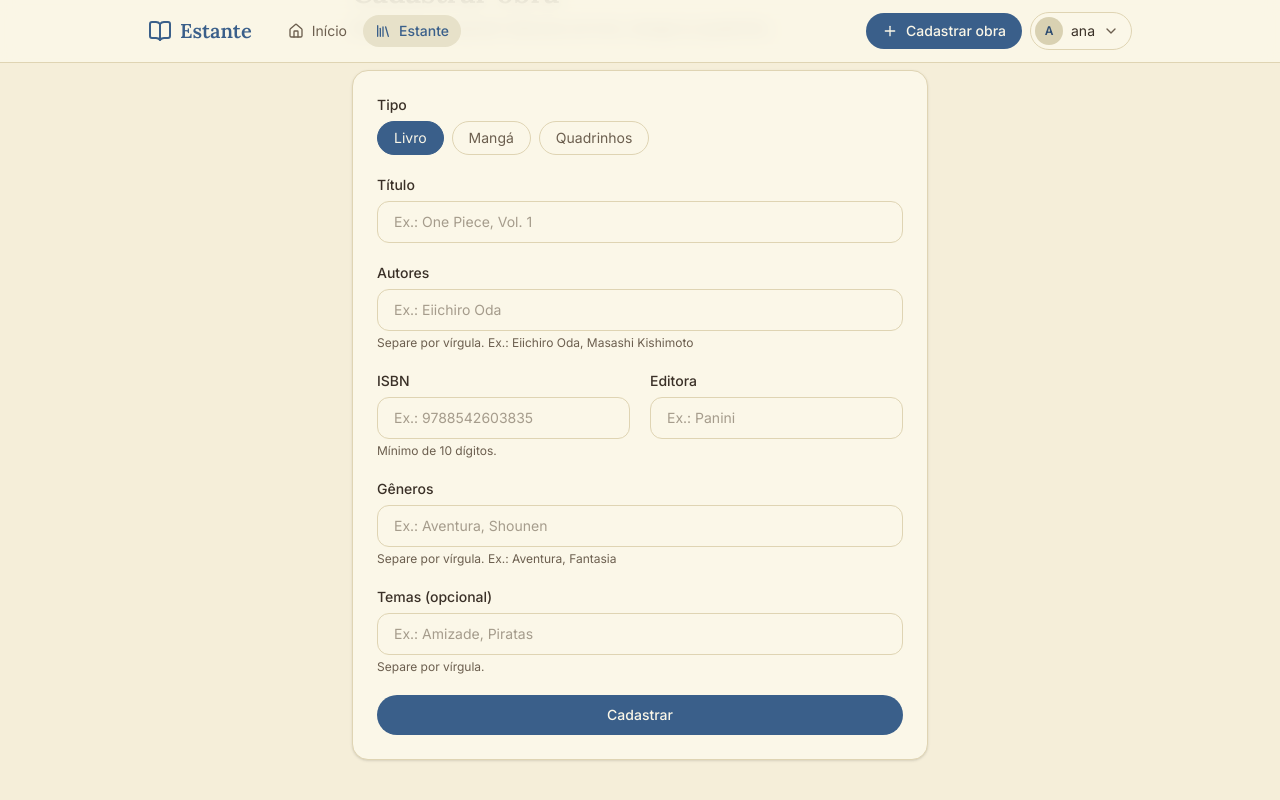
Test: validação do cadastro de obra › exige os campos obrigatórios
(page scrolled)
Click the button "Cadastrar" at (640, 715), box [377,695,903,735]
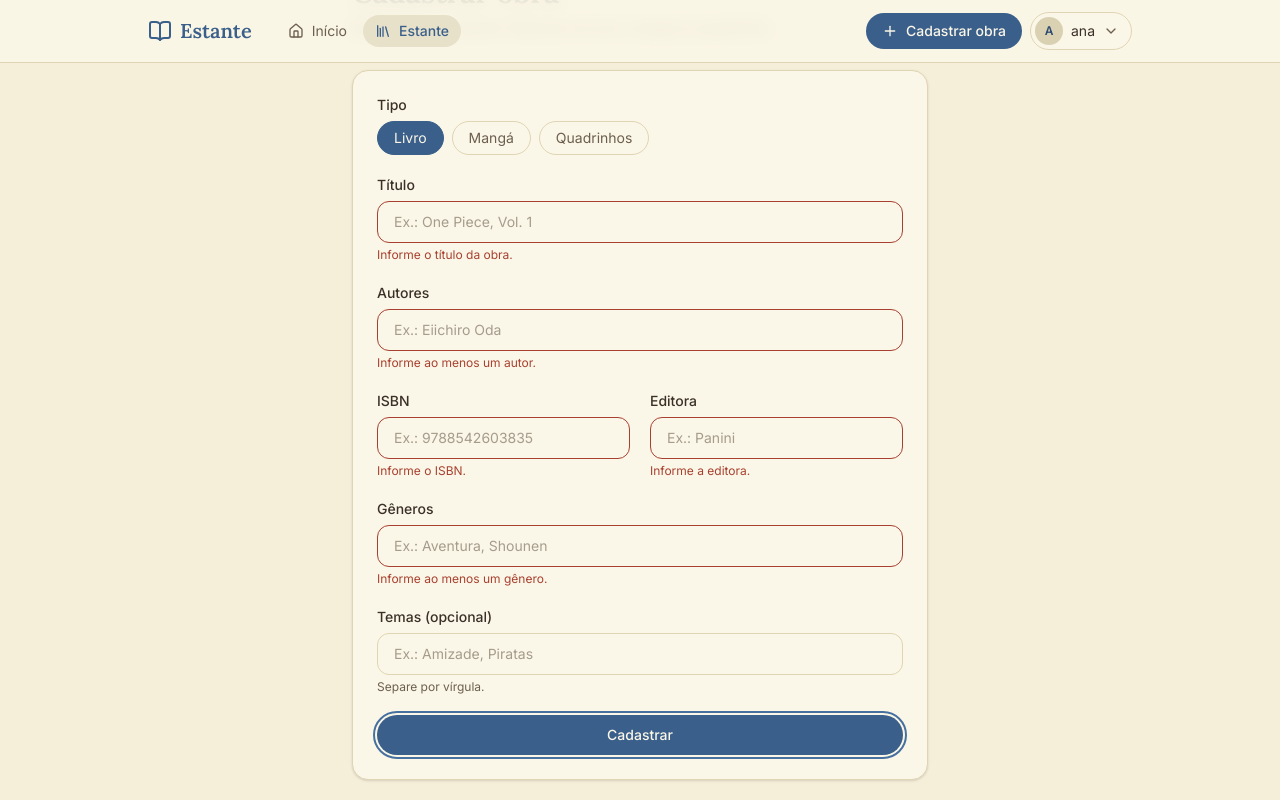
expect the text "Informe o título da obra." is shown: met, box [377,247,513,262]
expect the text "Informe ao menos um autor." is shown: met, box [377,355,536,370]
expect the text "Informe o ISBN." is shown: met, box [377,463,466,478]
